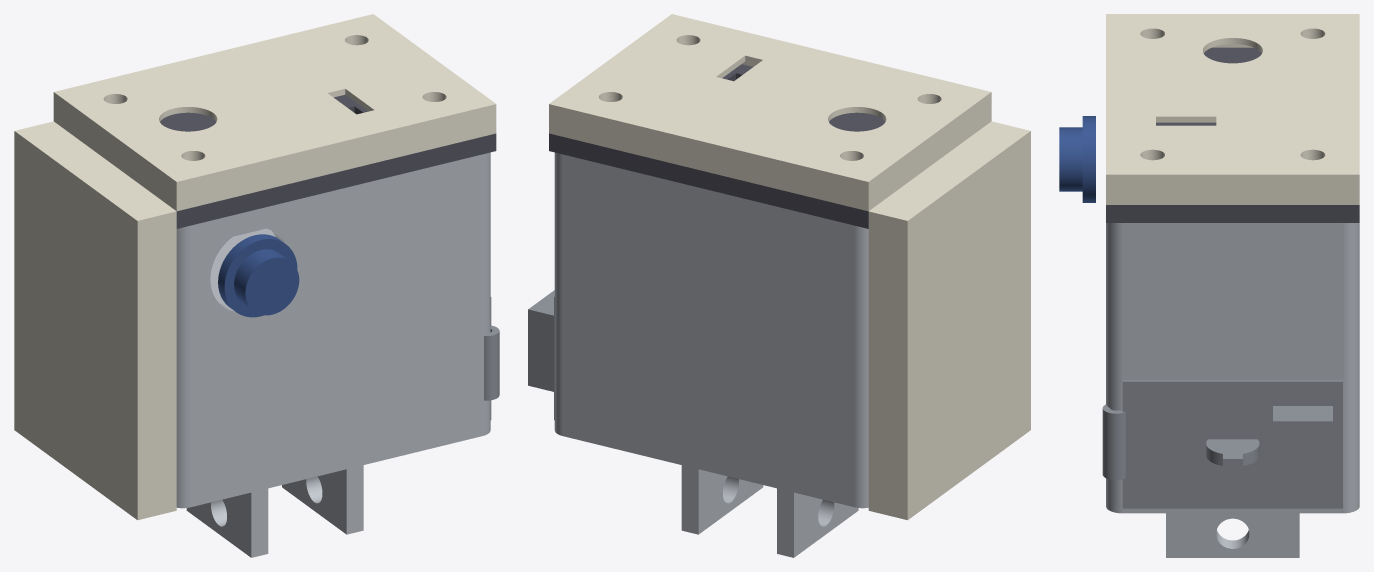
File: sender_assembled.glb
3 views of the same model, side by side, from view 1: azimuth 30°, elevation 25°; view 2: azimuth 150°, elevation 25°; view 3: azimuth 270°, elevation 25° (orthographic). The views are drawn at different scales.
Visible parts, largest first — view 1: =>[0:1:1:4], =>[0:1:1:8], =>[0:1:1:9], =>[0:1:1:5], =>[0:1:1:6], =>[0:1:1:7]; view 2: =>[0:1:1:4], =>[0:1:1:8], =>[0:1:1:9], =>[0:1:1:5], =>[0:1:1:7]; view 3: =>[0:1:1:4], =>[0:1:1:9], =>[0:1:1:7], =>[0:1:1:5], =>[0:1:1:6].
Part boxes in pixels (left/top/right/bottom): =>[0:1:1:4]: left=176, top=152, right=490, bottom=557; =>[0:1:1:8]: left=14, top=121, right=176, bottom=520; =>[0:1:1:9]: left=53, top=14, right=496, bottom=211; =>[0:1:1:5]: left=160, top=94, right=496, bottom=228; =>[0:1:1:6]: left=218, top=234, right=299, bottom=317; =>[0:1:1:7]: left=484, top=297, right=499, bottom=419; =>[0:1:1:4]: left=554, top=152, right=868, bottom=557; =>[0:1:1:8]: left=868, top=121, right=1030, bottom=520; =>[0:1:1:9]: left=549, top=14, right=991, bottom=211; =>[0:1:1:5]: left=549, top=64, right=885, bottom=228; =>[0:1:1:7]: left=528, top=290, right=554, bottom=420; =>[0:1:1:4]: left=1106, top=223, right=1359, bottom=557; =>[0:1:1:9]: left=1106, top=14, right=1359, bottom=204; =>[0:1:1:7]: left=1102, top=380, right=1342, bottom=508; =>[0:1:1:5]: left=1106, top=47, right=1359, bottom=222; =>[0:1:1:6]: left=1059, top=116, right=1095, bottom=202.
Size of the model in its own units: 0.0715 by 0.072 by 0.045.
